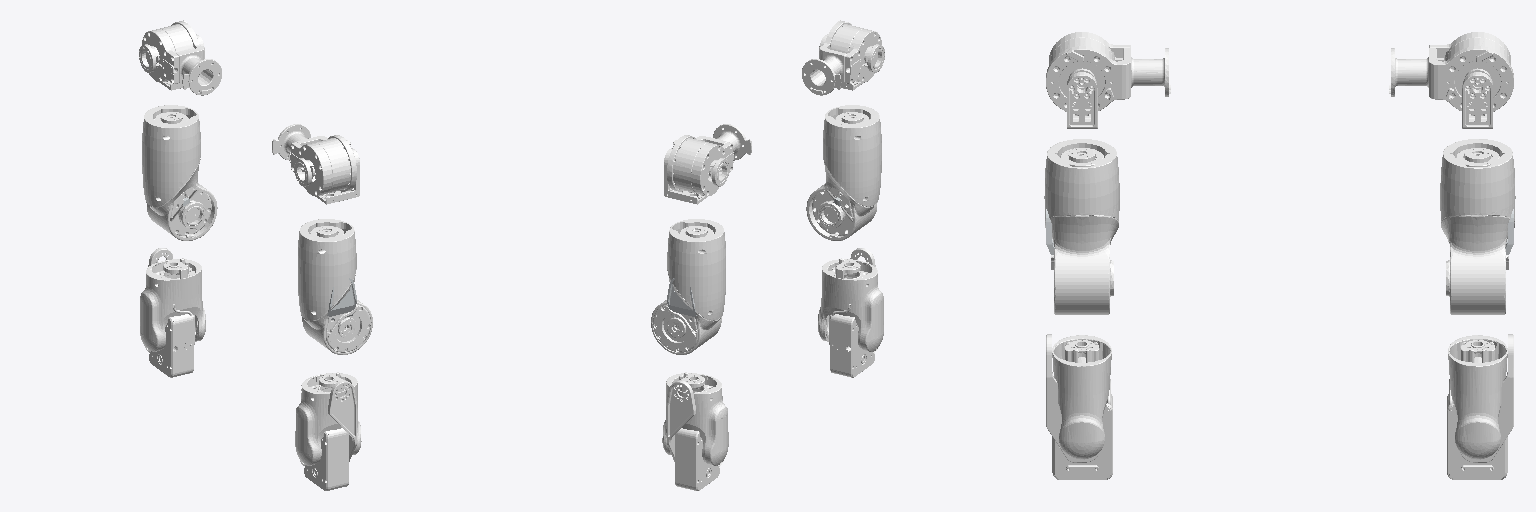
robot.urdf — biped_s43:
<?xml version="1.0" encoding="utf-8"?>
<!-- This URDF was automatically created by SolidWorks to URDF Exporter! Originally created by [author] ([email redacted]) 
     Commit Version: 1.6.0-4-g7f85cfe  Build Version: 1.6.7995.38578
     For more information, please see http://wiki.ros.org/sw_urdf_exporter -->
<robot
  name="biped_s43">
  <link
    name="torso">
    <inertial>
      <origin
        xyz="-0.00152137308202996 6.570545971788E-05 0.180819231291639"
        rpy="0 0 0" />
      <mass
        value="8.00595696358141" />
      <inertia
        ixx="0.0420370417828757"
        ixy="-6.33819913200011E-06"
        ixz="0.000774581599267071"
        iyy="0.0246229225472557"
        iyz="-1.21865064780519E-06"
        izz="0.0339288066064417" />
    </inertial>
    <visual>
      <origin
        xyz="0 0 0"
        rpy="0 0 0" />
      <geometry>
        <mesh
          filename="package://biped_s43/meshes/torso.STL" />
      </geometry>
      <material
        name="">
        <color
          rgba="1 1 1 1" />
      </material>
    </visual>
    <collision>
      <origin
        xyz="0 0 0"
        rpy="0 0 0" />
      <geometry>
        <mesh
          filename="package://biped_s43/meshes/torso.STL" />
      </geometry>
    </collision>
  </link>

  <link
    name="l_arm_pitch">
    <inertial>
      <origin
        xyz="0.0142197403011897 -0.0158198143370389 0.000151810457338808"
        rpy="0 0 0" />
      <mass
        value="0.174746585328354" />
      <inertia
        ixx="0.000265909520516632"
        ixy="-2.59598861144916E-05"
        ixz="-2.33624156891425E-07"
        iyy="0.000126272897577581"
        iyz="-1.7113334894126E-06"
        izz="0.000192916286448649" />
    </inertial>
    <visual>
      <origin
        xyz="0 0 0"
        rpy="0 0 0" />
      <geometry>
        <mesh
          filename="package://biped_s43/meshes/l_arm_pitch.STL" />
      </geometry>
      <material
        name="">
        <color
          rgba="1 1 1 1" />
      </material>
    </visual>
    <collision>
      <origin
        xyz="0 0 0"
        rpy="0 0 0" />
      <geometry>
        <mesh
          filename="package://biped_s43/meshes/l_arm_pitch.STL" />
      </geometry>
    </collision>
  </link>
  <joint name="l_arm_pitch"
    type="revolute">
    <origin
      xyz="-0.0175 0.2547 0.3245"
      rpy="0 0 0" />
    <parent
      link="torso" />
    <child
      link="l_arm_pitch" />
    <axis
      xyz="0 1 0" />
    <limit
      lower="-1.047"
      upper="2.094"
      effort="0"
      velocity="0" />
  </joint>
  <link
    name="l_arm_roll">
    <inertial>
      <origin
        xyz="0.0328722823548324 -6.02081934308885E-09 -0.0333619980808738"
        rpy="0 0 0" />
      <mass
        value="0.0275279041732812" />
      <inertia
        ixx="2.18198673960488E-05"
        ixy="1.00434805014114E-11"
        ixz="-6.54641165117822E-06"
        iyy="2.59041339554032E-05"
        iyz="-7.19292827340807E-12"
        izz="1.33665916401548E-05" />
    </inertial>
    <visual>
      <origin
        xyz="0 0 0"
        rpy="0 0 0" />
      <geometry>
        <mesh
          filename="package://biped_s43/meshes/l_arm_roll.STL" />
      </geometry>
      <material
        name="">
        <color
          rgba="1 1 1 1" />
      </material>
    </visual>
    <collision>
      <origin
        xyz="0 0 0"
        rpy="0 0 0" />
      <geometry>
        <mesh
          filename="package://biped_s43/meshes/l_arm_roll.STL" />
      </geometry>
    </collision>
  </link>
  <joint name="l_arm_roll"
    type="revolute">
    <origin
      xyz="0 0 0"
      rpy="0 0 0" />
    <parent
      link="l_arm_pitch" />
    <child
      link="l_arm_roll" />
    <axis
      xyz="1 0 0" />
    <limit
      lower="-0.349"
      upper="2.094"
      effort="0"
      velocity="0" />
  </joint>
  <link
   name="l_arm_yaw">
    <inertial>
      <origin
        xyz="0.00435419486285331 0.00655494667807083 -0.150653532957614"
        rpy="0 0 0" />
      <mass
        value="0.173566136470917" />
      <inertia
        ixx="0.000103216153462413"
        ixy="1.58656474482053E-08"
        ixz="-6.17334881980063E-08"
        iyy="0.000126811314024844"
        iyz="1.35227132392023E-05"
        izz="0.000101741105051944" />
    </inertial>
    <visual>
      <origin
        xyz="0 0 0"
        rpy="0 0 0" />
      <geometry>
        <mesh
          filename="package://biped_s43/meshes/l_arm_yaw.STL" />
      </geometry>
      <material
        name="">
        <color
          rgba="1 1 1 1" />
      </material>
    </visual>
    <collision>
      <origin
        xyz="0 0 0"
        rpy="0 0 0" />
      <geometry>
        <mesh
          filename="package://biped_s43/meshes/l_arm_yaw.STL" />
      </geometry>
    </collision>
  </link>
  <joint name="l_arm_yaw"
    type="revolute">
    <origin
      xyz="0 0 0"
      rpy="0 0 0" />
    <parent
      link="l_arm_roll" />
    <child
      link="l_arm_yaw" />
    <axis
      xyz="0 0 1" />
    <limit
      lower="-1.57"
      upper="1.57"
      effort="0"
      velocity="0" />
  </joint>
  <link
    name="l_forearm_pitch">
    <inertial>
      <origin
        xyz="2.65670778256885E-07 0.0239113540496901 -0.0401580149041652"
        rpy="0 0 0" />
      <mass
        value="0.0888093839871042" />
      <inertia
        ixx="8.27863365794365E-05"
        ixy="3.72014251093926E-11"
        ixz="3.06532124209034E-10"
        iyy="6.87816670177368E-05"
        iyz="-2.71271593158762E-05"
        izz="6.07405521072005E-05" />
    </inertial>
    <visual>
      <origin
        xyz="0 0 0"
        rpy="0 0 0" />
      <geometry>
        <mesh
          filename="package://biped_s43/meshes/l_forearm_pitch.STL" />
      </geometry>
      <material
        name="">
        <color
          rgba="0.898039215686275 0.917647058823529 0.929411764705882 1" />
      </material>
    </visual>
    <collision>
      <origin
        xyz="0 0 0"
        rpy="0 0 0" />
      <geometry>
        <mesh
          filename="package://biped_s43/meshes/l_forearm_pitch.STL" />
      </geometry>
    </collision>
  </link>
  <joint name="l_forearm_pitch"
    type="revolute">
    <origin
      xyz="0.0045067 0 -0.2046"
      rpy="0 0 0" />
    <parent
      link="l_arm_yaw" />
    <child
      link="l_forearm_pitch" />
    <axis
      xyz="0 1 0" />
    <limit
      lower="-1.57"
      upper="0.0"
      effort="0"
      velocity="0" />
  </joint>
  <link
    name="l_hand_yaw">
    <inertial>
      <origin
        xyz="3.38916270049032E-05 0.00597576048894533 0.0437739462882778"
        rpy="0 0 0" />
      <mass
        value="0.168295683426251" />
      <inertia
        ixx="8.41153550451959E-05"
        ixy="-1.58432039717765E-08"
        ixz="-1.34226918791873E-08"
        iyy="0.000105118257522952"
        iyz="9.65908636117429E-06"
        izz="9.72825458729691E-05" />
    </inertial>
    <visual>
      <origin
        xyz="0 0 0"
        rpy="0 0 0" />
      <geometry>
        <mesh
          filename="package://biped_s43/meshes/l_hand_yaw.STL" />
      </geometry>
      <material
        name="">
        <color
          rgba="1 1 1 1" />
      </material>
    </visual>
    <collision>
      <origin
        xyz="0 0 0"
        rpy="0 0 0" />
      <geometry>
        <mesh
          filename="package://biped_s43/meshes/l_hand_yaw.STL" />
      </geometry>
    </collision>
  </link>
  <joint name="l_hand_yaw"
    type="revolute">
    <origin
      xyz="0 0 -0.18915"
      rpy="0 0 0" />
    <parent
      link="l_forearm_pitch" />
    <child
      link="l_hand_yaw" />
    <axis
      xyz="0 0 1" />
    <limit
      lower="-1.57"
      upper="1.57"
      effort="0"
      velocity="0" />
  </joint>
  <link
    name="l_hand_pitch">
    <inertial>
      <origin
        xyz="0.000855309079931199 0.00213008600528963 -0.115813513460167"
        rpy="0 0 0" />
      <mass
        value="0.344320323618474" />
      <inertia
        ixx="0.000540955625710294"
        ixy="5.77541434372588E-06"
        ixz="1.4140308478252E-05"
        iyy="0.00040279053534777"
        iyz="-2.16239970470609E-05"
        izz="0.000201905906214185" />
    </inertial>
    <visual>
      <origin
        xyz="0 0 0"
        rpy="0 0 0" />
      <geometry>
        <mesh
          filename="package://biped_s43/meshes/l_hand_pitch.STL" />
      </geometry>
      <material
        name="">
        <color
          rgba="1 1 1 1" />
      </material>
    </visual>
    <collision>
      <origin
        xyz="0 0 0"
        rpy="0 0 0" />
      <geometry>
        <mesh
          filename="package://biped_s43/meshes/l_hand_pitch.STL" />
      </geometry>
    </collision>
  </link>
  <joint name="l_hand_pitch"
    type="revolute">
    <origin
      xyz="0 0 0"
      rpy="0 0 0" />
    <parent
      link="l_hand_yaw" />
    <child
      link="l_hand_pitch" />
    <axis
      xyz="0 1 0" />
    <limit
      lower="-1.396"
      upper="1.57"
      effort="0"
      velocity="0" />
  </joint>

<!-- virtual joints -->
    <link
    name="l_hand_roll">
    <inertial>
      <origin
        xyz="0.0 0.0 -0.0"
        rpy="0 0 0" />
      <mass
        value="0.344320323618474" />
      <inertia
        ixx="0.000540955625710294"
        ixy="5.77541434372588E-06"
        ixz="1.4140308478252E-05"
        iyy="0.00040279053534777"
        iyz="-2.16239970470609E-05"
        izz="0.000201905906214185" />
    </inertial>
    <!-- <visual>
      <origin
        xyz="0 0 0"
        rpy="0 0 0" />
      <geometry>
        <mesh
          filename="package://biped_s43/meshes/l_hand_pitch.STL" />
      </geometry>
      <material
        name="">
        <color
          rgba="1 1 1 1" />
      </material>
    </visual>
    <collision>
      <origin
        xyz="0 0 0"
        rpy="0 0 0" />
      <geometry>
        <mesh
          filename="package://biped_s43/meshes/l_hand_pitch.STL" />
      </geometry>
    </collision> -->
  </link>
  <joint
    name="l_hand_roll"
    type="revolute">
    <origin
      xyz="0 0 0"
      rpy="0 0 0" />
    <parent
      link="l_hand_pitch" />
    <child
      link="l_hand_roll" />
    <axis
      xyz="0 1 0" />
    <limit
      lower="-0.0"
      upper="0.0"
      effort="0"
      velocity="0" />
  </joint>


  <!-- right arm -->
    <link
    name="r_arm_pitch">
    <inertial>
      <origin
        xyz="0.0142196704183039 0.015819769554607 0.00015144775718845"
        rpy="0 0 0" />
      <mass
        value="0.174747028375522" />
      <inertia
        ixx="0.0002659089458971"
        ixy="2.59598690021371E-05"
        ixz="-2.3385882920164E-07"
        iyy="0.000126276535014792"
        iyz="1.71632948801919E-06"
        izz="0.000192912111547749" />
    </inertial>
    <visual>
      <origin
        xyz="0 0 0"
        rpy="0 0 0" />
      <geometry>
        <mesh
          filename="package://biped_s43/meshes/r_arm_pitch.STL" />
      </geometry>
      <material
        name="">
        <color
          rgba="1 1 1 1" />
      </material>
    </visual>
    <collision>
      <origin
        xyz="0 0 0"
        rpy="0 0 0" />
      <geometry>
        <mesh
          filename="package://biped_s43/meshes/r_arm_pitch.STL" />
      </geometry>
    </collision>
  </link>
  <joint
    name="r_arm_pitch"
    type="revolute">
    <origin
      xyz="-0.0175 -0.2557 0.3245"
      rpy="0 0 0" />
    <parent
      link="torso" />
    <child
      link="r_arm_pitch" />
    <axis
      xyz="0 1 0" />
    <limit
      lower="-1.047"
      upper="2.094"
      effort="0"
      velocity="0" />
  </joint>
  <link
    name="r_arm_roll">
    <inertial>
      <origin
        xyz="0.0328722861407201 1.50239842788835E-09 -0.033362001559319"
        rpy="0 0 0" />
      <mass
        value="0.0275279143681991" />
      <inertia
        ixx="2.18198697253185E-05"
        ixy="-1.05051355341662E-11"
        ixz="-6.54641028314625E-06"
        iyy="2.59041329678136E-05"
        iyz="6.42517523937707E-12"
        izz="1.33665922930808E-05" />
    </inertial>
    <visual>
      <origin
        xyz="0 0 0"
        rpy="0 0 0" />
      <geometry>
        <mesh
          filename="package://biped_s43/meshes/r_arm_roll.STL" />
      </geometry>
      <material
        name="">
        <color
          rgba="1 1 1 1" />
      </material>
    </visual>
    <collision>
      <origin
        xyz="0 0 0"
        rpy="0 0 0" />
      <geometry>
        <mesh
          filename="package://biped_s43/meshes/r_arm_roll.STL" />
      </geometry>
    </collision>
  </link>
  <joint
    name="r_arm_roll"
    type="revolute">
    <origin
      xyz="0 0 0"
      rpy="0 0 0" />
    <parent
      link="r_arm_pitch" />
    <child
      link="r_arm_roll" />
    <axis
      xyz="1 0 0" />
    <limit
      lower="-0.349"
      upper="2.094"
      effort="0"
      velocity="0" />
  </joint>
  <link
    name="r_arm_yaw">
    <inertial>
      <origin
        xyz="0.00465923210128664 -0.00655492891218179 -0.150653535163084"
        rpy="0 0 0" />
      <mass
        value="0.173566237026" />
      <inertia
        ixx="0.000103216154072243"
        ixy="1.58660140392805E-08"
        ixz="6.17337468085342E-08"
        iyy="0.000126811315252261"
        iyz="-1.35227132861966E-05"
        izz="0.000101741106159027" />
    </inertial>
    <visual>
      <origin
        xyz="0 0 0"
        rpy="0 0 0" />
      <geometry>
        <mesh
          filename="package://biped_s43/meshes/r_arm_yaw.STL" />
      </geometry>
      <material
        name="">
        <color
          rgba="1 1 1 1" />
      </material>
    </visual>
    <collision>
      <origin
        xyz="0 0 0"
        rpy="0 0 0" />
      <geometry>
        <mesh
          filename="package://biped_s43/meshes/r_arm_yaw.STL" />
      </geometry>
    </collision>
  </link>
  <joint
    name="r_arm_yaw"
    type="revolute">
    <origin
      xyz="0 0 0"
      rpy="0 0 0" />
    <parent
      link="r_arm_roll" />
    <child
      link="r_arm_yaw" />
    <axis
      xyz="0 0 1" />
    <limit
      lower="-1.57"
      upper="1.57"
      effort="0"
      velocity="0" />
  </joint>
  <link
    name="r_forearm_pitch">
    <inertial>
      <origin
        xyz="-2.65773622166489E-07 -0.023911354122526 -0.0401580148374924"
        rpy="0 0 0" />
      <mass
        value="0.0888093844950085" />
      <inertia
        ixx="8.27863367542845E-05"
        ixy="3.7066805249671E-11"
        ixz="-3.06429511692235E-10"
        iyy="6.87816672639171E-05"
        iyz="2.71271593806414E-05"
        izz="6.0740552391899E-05" />
    </inertial>
    <visual>
      <origin
        xyz="0 0 0"
        rpy="0 0 0" />
      <geometry>
        <mesh
          filename="package://biped_s43/meshes/r_forearm_pitch.STL" />
      </geometry>
      <material
        name="">
        <color
          rgba="0.898039215686275 0.917647058823529 0.929411764705882 1" />
      </material>
    </visual>
    <collision>
      <origin
        xyz="0 0 0"
        rpy="0 0 0" />
      <geometry>
        <mesh
          filename="package://biped_s43/meshes/r_forearm_pitch.STL" />
      </geometry>
    </collision>
  </link>
  <joint
    name="r_forearm_pitch"
    type="revolute">
    <origin
      xyz="0.0045067 0 -0.2046"
      rpy="0 0 0" />
    <parent
      link="r_arm_yaw" />
    <child
      link="r_forearm_pitch" />
    <axis
      xyz="0 1 0" />
    <limit
      lower="-1.57"
      upper="1.57"
      effort="0"
      velocity="0" />
  </joint>
  <link
    name="r_hand_yaw">
    <inertial>
      <origin
        xyz="-3.38870732800589E-05 -0.00597575931400085 0.0437739423349347"
        rpy="0 0 0" />
      <mass
        value="0.16829576540844" />
      <inertia
        ixx="8.41153559379105E-05"
        ixy="-1.58435297586044E-08"
        ixz="1.34228003156711E-08"
        iyy="0.000105118258005196"
        iyz="-9.65908626303867E-06"
        izz="9.72825471764427E-05" />
    </inertial>
    <visual>
      <origin
        xyz="0 0 0"
        rpy="0 0 0" />
      <geometry>
        <mesh
          filename="package://biped_s43/meshes/r_hand_yaw.STL" />
      </geometry>
      <material
        name="">
        <color
          rgba="1 1 1 1" />
      </material>
    </visual>
    <collision>
      <origin
        xyz="0 0 0"
        rpy="0 0 0" />
      <geometry>
        <mesh
          filename="package://biped_s43/meshes/r_hand_yaw.STL" />
      </geometry>
    </collision>
  </link>
  <joint
    name="r_hand_yaw"
    type="revolute">
    <origin
      xyz="0 0 -0.18915"
      rpy="0 0 0" />
    <parent
      link="r_forearm_pitch" />
    <child
      link="r_hand_yaw" />
    <axis
      xyz="0 0 1" />
    <limit
      lower="-1.57"
      upper="1.57"
      effort="0"
      velocity="0" />
  </joint>
  <link
    name="r_hand_pitch">
    <inertial>
      <origin
        xyz="0.000855318718506226 -0.00213006893556911 -0.115813480423586"
        rpy="0 0 0" />
      <mass
        value="0.344320648555052" />
      <inertia
        ixx="0.000540956301757255"
        ixy="-5.77543528501418E-06"
        ixz="1.41402761249693E-05"
        iyy="0.00040279105474128"
        iyz="2.16236964612705E-05"
        izz="0.000201906090748558" />
    </inertial>
    <visual>
      <origin
        xyz="0 0 0"
        rpy="0 0 0" />
      <geometry>
        <mesh
          filename="package://biped_s43/meshes/r_hand_pitch.STL" />
      </geometry>
      <material
        name="">
        <color
          rgba="1 1 1 1" />
      </material>
    </visual>
    <collision>
      <origin
        xyz="0 0 0"
        rpy="0 0 0" />
      <geometry>
        <mesh
          filename="package://biped_s43/meshes/r_hand_pitch.STL" />
      </geometry>
    </collision>
  </link>
  <joint
    name="r_hand_pitch"
    type="revolute">
    <origin
      xyz="0 0 0"
      rpy="0 0 0" />
    <parent
      link="r_hand_yaw" />
    <child
      link="r_hand_pitch" />
    <axis
      xyz="0 1 0" />
    <limit
      lower="-1.396"
      upper="1.57"
      effort="0"
      velocity="0" />
  </joint>

<!-- virtual joints -->
  <link
    name="r_hand_roll">
    <inertial>
      <origin
        xyz="0.0 -0.0 -0.0"
        rpy="0 0 0" />
      <mass
        value="0.344320648555052" />
      <inertia
        ixx="0.000540956301757255"
        ixy="-5.77543528501418E-06"
        ixz="1.41402761249693E-05"
        iyy="0.00040279105474128"
        iyz="2.16236964612705E-05"
        izz="0.000201906090748558" />
    </inertial>
    <!-- <visual>
      <origin
        xyz="0 0 0"
        rpy="0 0 0" />
      <geometry>
        <mesh
          filename="package://biped_s43/meshes/r_hand_pitch.STL" />
      </geometry>
      <material
        name="">
        <color
          rgba="1 1 1 1" />
      </material>
    </visual> -->
    <!-- <collision>
      <origin
        xyz="0 0 0"
        rpy="0 0 0" />
      <geometry>
        <mesh
          filename="package://biped_s43/meshes/r_hand_pitch.STL" />
      </geometry>
    </collision> -->
  </link>
  <joint
    name="r_hand_roll"
    type="revolute">
    <origin
      xyz="0 0 0"
      rpy="0 0 0" />
    <parent
      link="r_hand_pitch" />
    <child
      link="r_hand_roll" />
    <axis
      xyz="0 1 0" />
    <limit
      lower="-0.0"
      upper="0.0"
      effort="0"
      velocity="0" />
  </joint>

</robot>

--- Render facts (derived) ---
The picture shows the robot from 3 angles, left to right: view 1: azimuth 30°, elevation 25°; view 2: azimuth 150°, elevation 25°; view 3: azimuth 270°, elevation 25°; orthographic projection.
Model biped_s43 with 15 links and 14 joints (14 revolute), rooted at torso, posed all joints at 0.
Visible links, largest first — view 1: l_arm_yaw, r_arm_yaw, l_hand_yaw, r_arm_pitch, l_arm_pitch, r_hand_pitch, r_hand_yaw, l_hand_pitch, r_arm_roll; view 2: r_arm_yaw, l_arm_yaw, r_hand_yaw, l_arm_pitch, r_arm_pitch, l_hand_pitch, l_hand_yaw, r_hand_pitch, l_arm_roll; view 3: l_arm_yaw, r_arm_yaw, l_hand_yaw, r_hand_yaw, l_arm_pitch, r_arm_pitch, l_hand_pitch, r_hand_pitch, l_arm_roll, r_arm_roll.
Link boxes in pixels (x1=…): l_arm_yaw: x1=142, y1=105, x2=217, y2=240; r_arm_yaw: x1=298, y1=219, x2=372, y2=354; l_hand_yaw: x1=140, y1=258, x2=205, y2=351; r_arm_pitch: x1=272, y1=124, x2=356, y2=195; l_arm_pitch: x1=139, y1=20, x2=221, y2=95; r_hand_pitch: x1=300, y1=380, x2=356, y2=490; r_hand_yaw: x1=295, y1=372, x2=361, y2=465; l_hand_pitch: x1=146, y1=248, x2=194, y2=377; r_arm_roll: x1=315, y1=148, x2=359, y2=204; r_arm_yaw: x1=806, y1=105, x2=881, y2=240; l_arm_yaw: x1=651, y1=219, x2=725, y2=354; r_hand_yaw: x1=818, y1=258, x2=883, y2=351; l_arm_pitch: x1=667, y1=124, x2=751, y2=195; r_arm_pitch: x1=802, y1=20, x2=884, y2=95; l_hand_pitch: x1=667, y1=380, x2=723, y2=490; l_hand_yaw: x1=662, y1=372, x2=728, y2=465; r_hand_pitch: x1=829, y1=248, x2=878, y2=377; l_arm_roll: x1=664, y1=148, x2=707, y2=204; l_arm_yaw: x1=1440, y1=139, x2=1515, y2=314; r_arm_yaw: x1=1044, y1=139, x2=1119, y2=314; l_hand_yaw: x1=1448, y1=335, x2=1507, y2=459; r_hand_yaw: x1=1052, y1=335, x2=1111, y2=459; l_arm_pitch: x1=1389, y1=32, x2=1513, y2=114; r_arm_pitch: x1=1046, y1=32, x2=1170, y2=114; l_hand_pitch: x1=1447, y1=334, x2=1513, y2=479; r_hand_pitch: x1=1046, y1=334, x2=1112, y2=479; l_arm_roll: x1=1462, y1=72, x2=1492, y2=128; r_arm_roll: x1=1067, y1=72, x2=1097, y2=128.
Size in the robot's own frame: 0.1193 by 0.6074 by 0.6184 metres.
Meshes: 13 distinct files referenced, 12 mesh visuals loaded (12 binary STL); not drawn: 1 (reference not matched to a file when rendering).